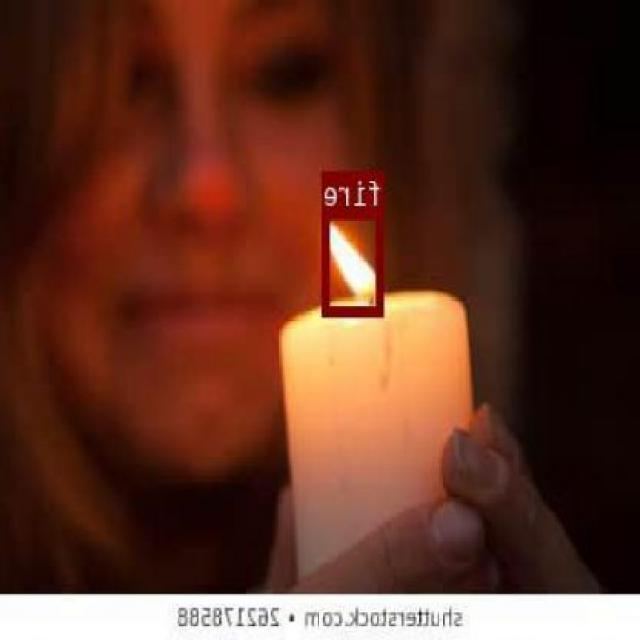fire: (324, 206, 384, 314)
